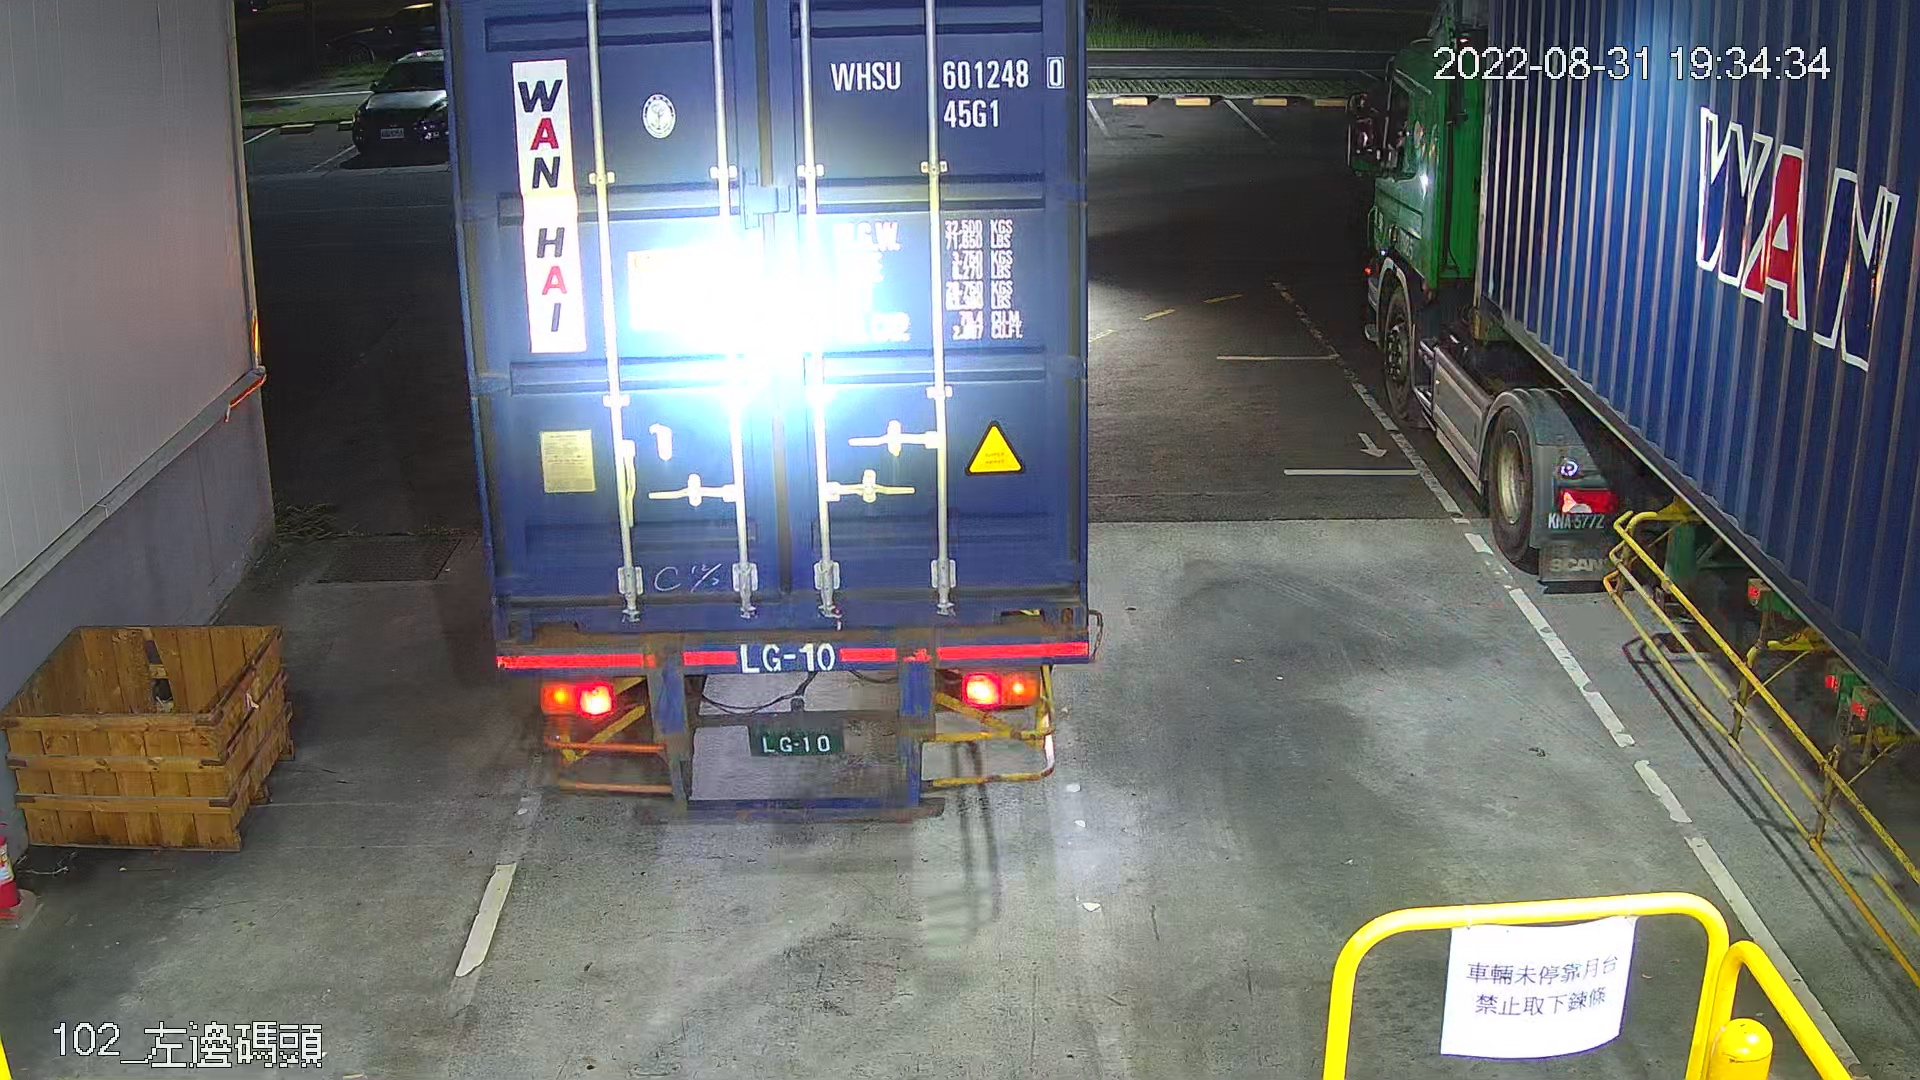container: (822, 47, 1073, 138)
